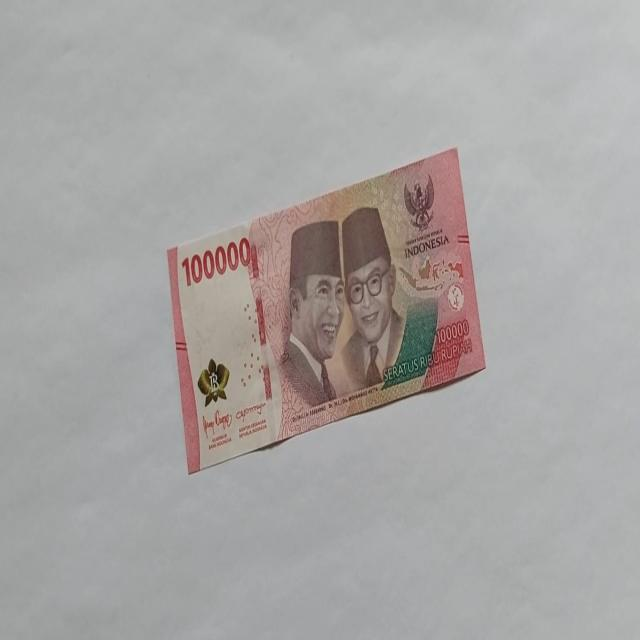seratus ribu rupiah: (166, 146, 486, 474)
